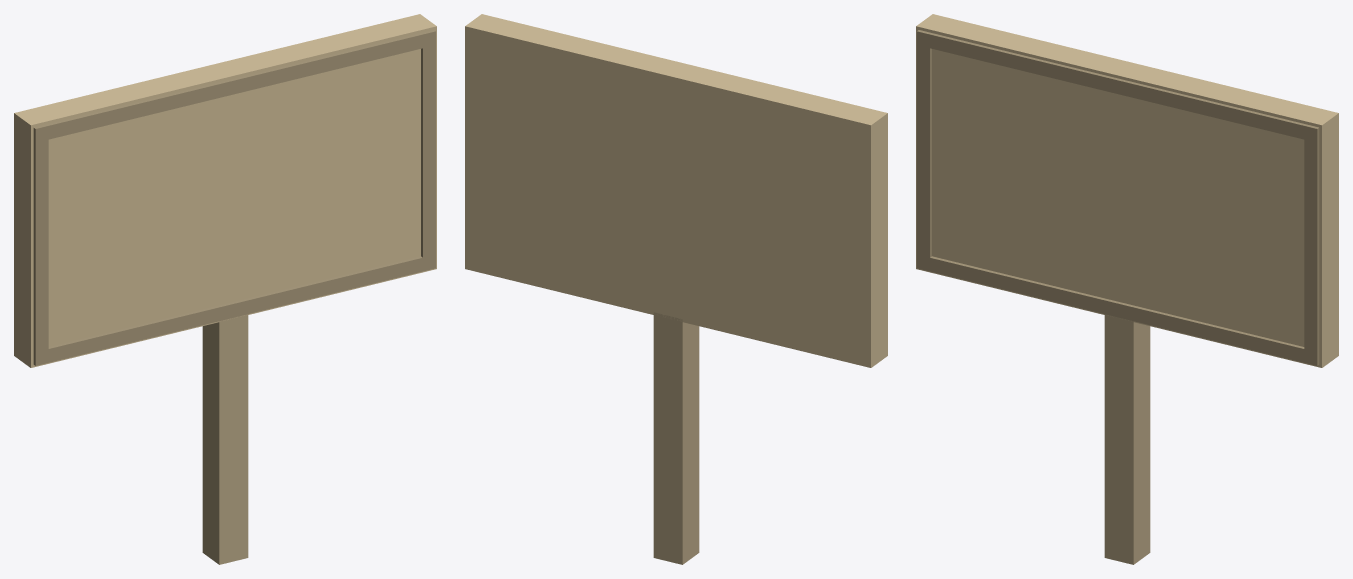
Rendered from sign_oak_stand.gltf.
The picture shows the model from 3 angles, left to right: view 1: azimuth 30°, elevation 25°; view 2: azimuth 150°, elevation 25°; view 3: azimuth 330°, elevation 25°; orthographic projection.
Visible parts, largest first — view 1: sign_oak_stand; view 2: sign_oak_stand; view 3: sign_oak_stand.
Part boxes in pixels (x1=…): sign_oak_stand: x1=14, y1=14, x2=436, y2=564; sign_oak_stand: x1=465, y1=14, x2=887, y2=564; sign_oak_stand: x1=916, y1=14, x2=1338, y2=564.
Size of the model in its own units: 0.875 by 1 by 0.07.
